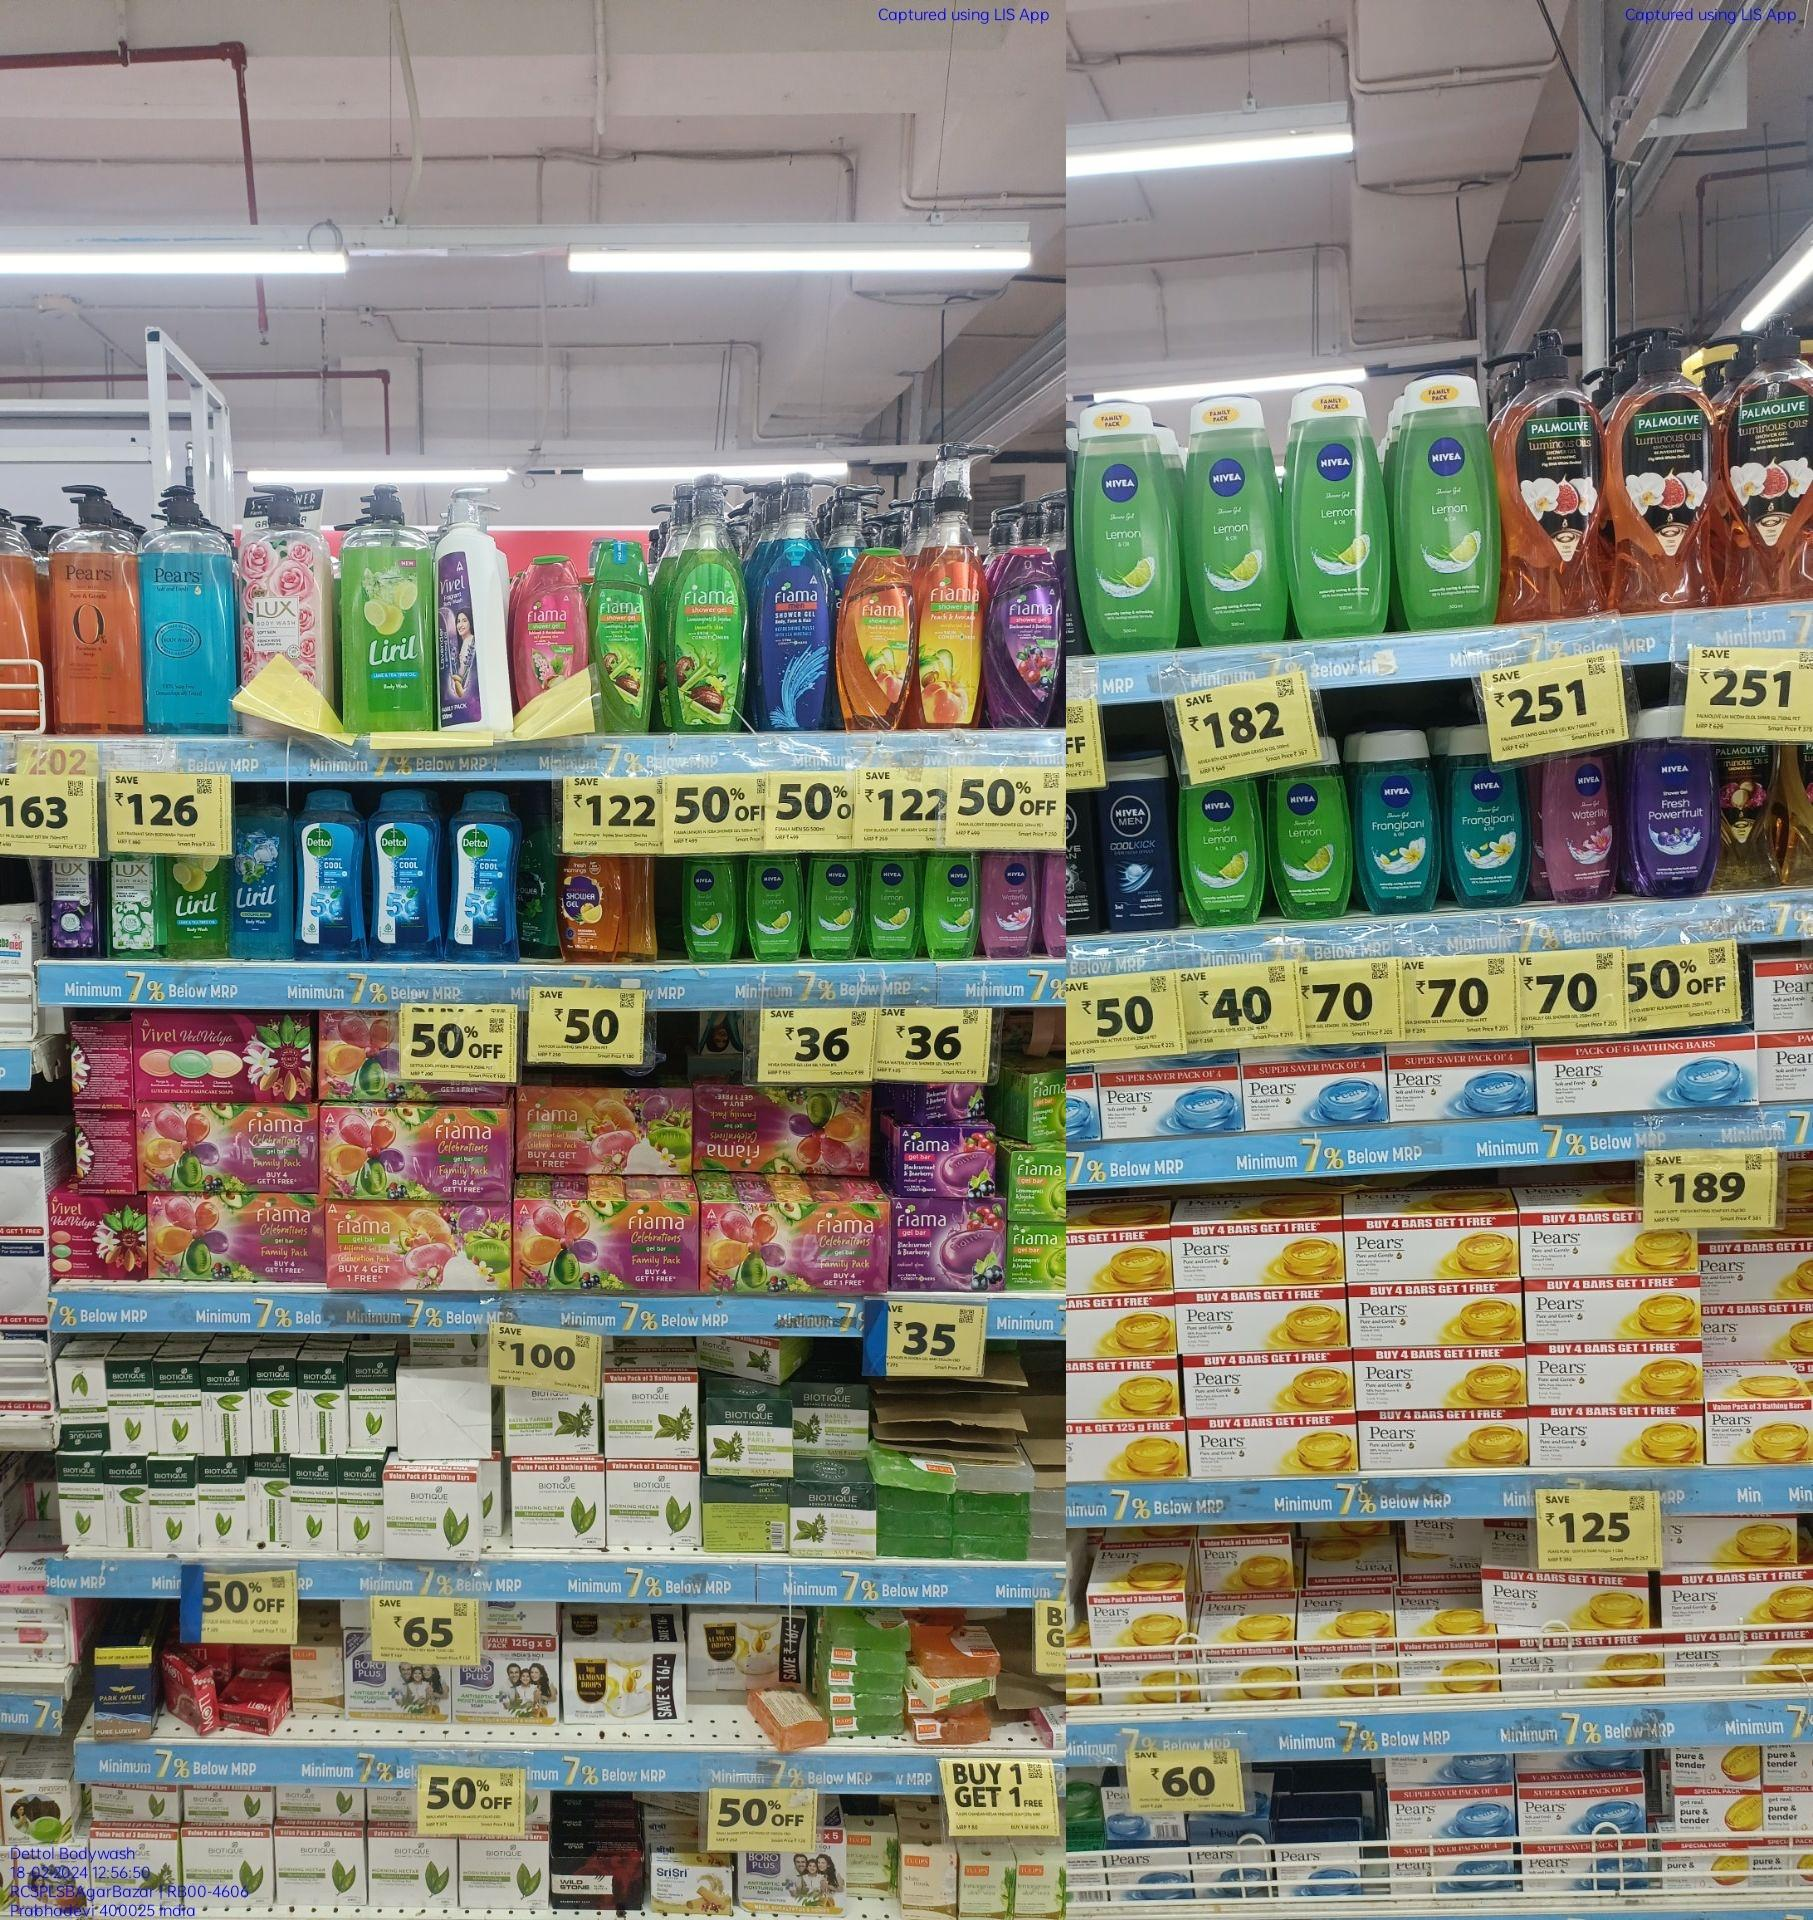Dettol_Bodywash_Cool: (366, 782, 440, 957), (448, 790, 520, 966), (295, 787, 365, 961)
Fiama_Shower_Gel_Patchouli_and_Macadamia_250ML: (518, 555, 584, 700)
Fiama_Shower_Gel_Peach_and_Avocado_250ML: (837, 545, 917, 733)
Joy_Shower_Gel_Mandarin_and_Lemongrass_250ML: (554, 850, 624, 963)
Liril_Cooling_Mint_Body_Wash_250ML: (232, 789, 293, 966)
Liril_Lime_and_Tea_Tree_Oil_Body_Wash_250ML: (174, 855, 227, 964)
Lux_Black_Orchid_Scent_and_Juniper_Oil_Body_Wash_245ML: (48, 857, 102, 956)
Lux_Body_Wash_Skin_Detox_Freesia_Scent_and_Alove_Vera_245ML: (111, 852, 167, 957)
Nivea_Shower_Gel_Frangipani_and_Oil_250ML: (1445, 721, 1527, 905), (1360, 731, 1440, 915)
Nivea_Shower_Gel_Fresh_Powerfruit_250ML: (1626, 698, 1707, 903)
Nivea_Shower_Gel_Lemon_and_Oil_250ML: (1079, 404, 1179, 652), (1399, 380, 1501, 622), (1293, 385, 1389, 637), (1186, 394, 1281, 644), (1177, 763, 1264, 928), (1275, 760, 1358, 923)
Nivea_Shower_Gel_Waterlily_and_Oil_250ML: (1542, 748, 1622, 905)
Palmolive_Luminous_Oils_Invigorating_Macadamia_Oil_With_Peony_250ML: (1714, 744, 1784, 891)
